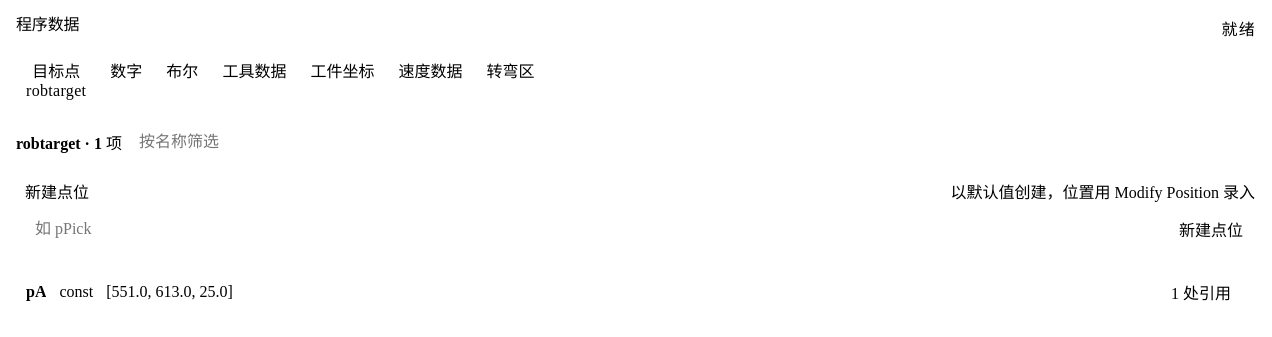
Test case: ProgramDataPanel — shell 协调与 Tab 切换 › 默认 robtarget Tab，可在各数据类型 Tab 间切换
Expected: the list named "robtarget 点位列表" shows "pA", [16,269,1249,315]
# 切到 tooldata。
Click the tab "工具数据".
click(254, 82)  # box [212,59,296,106]
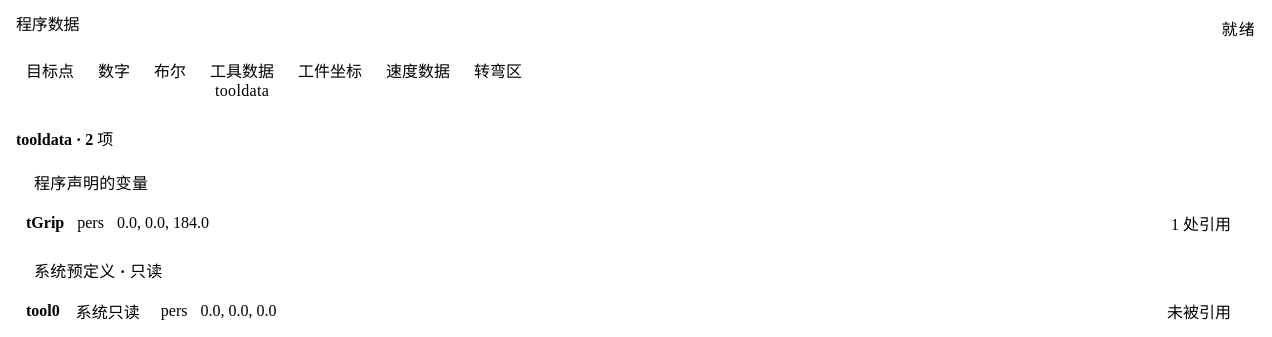
Expected: the list named "tooldata 数据列表" shows "tGrip", [16,200,1249,246]
#  切到 num。
Click the tab "数字".
click(114, 82)  # box [88,59,140,106]
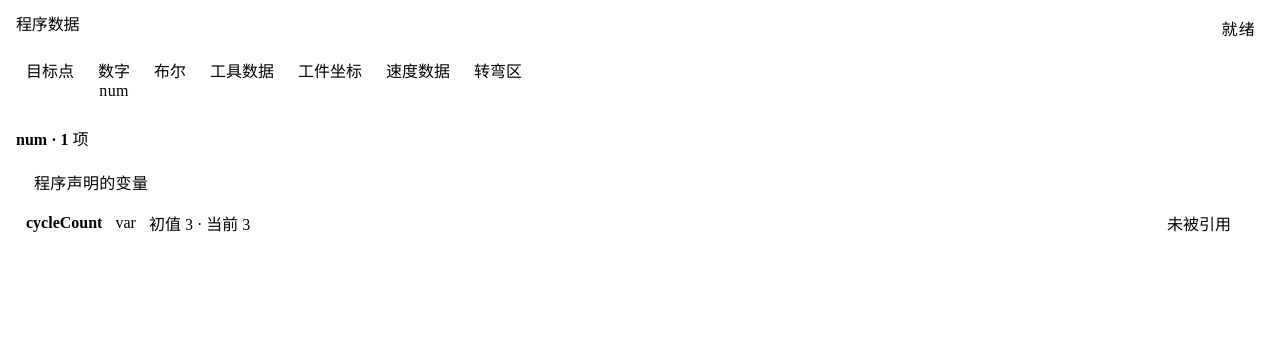
Expected: the list named "num 数据列表" shows "cycleCount", [16,200,1249,246]
